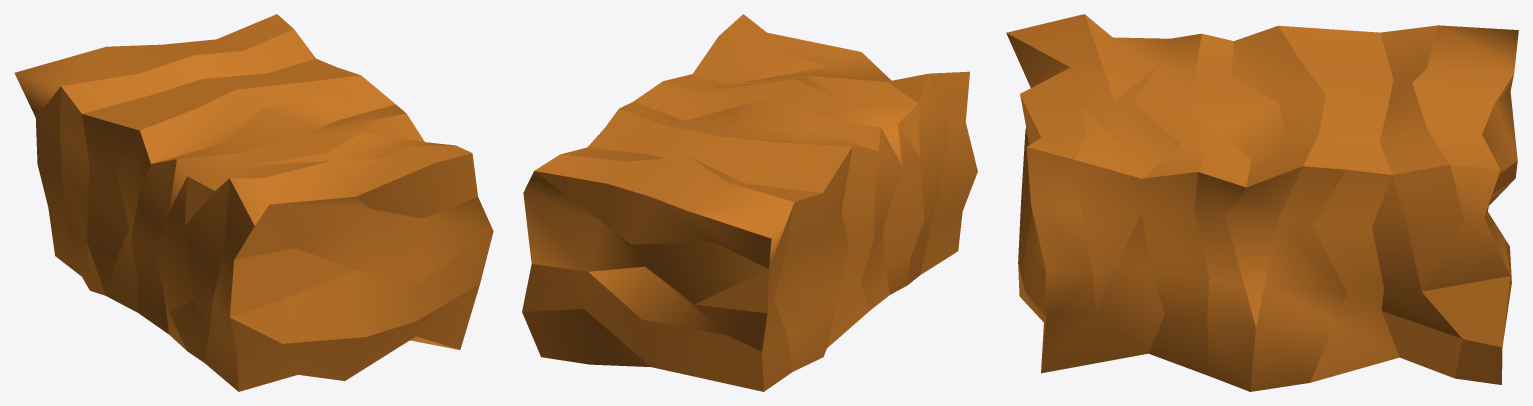
Rendered from Hay_3.fbx.
The picture shows the model from 3 angles, left to right: view 1: azimuth 30°, elevation 25°; view 2: azimuth 150°, elevation 25°; view 3: azimuth 270°, elevation 25°; orthographic projection. The views are drawn at different scales.
Parts seen in each view (by area): view 1: Hay_3; view 2: Hay_3; view 3: Hay_3.
Boxes of the visible parts, x1,y1,x2,y2 form: Hay_3: [14, 14, 493, 391]; Hay_3: [522, 14, 977, 391]; Hay_3: [1006, 14, 1518, 391].
Size of the model in its own units: 22.99 by 17.16 by 31.82.
